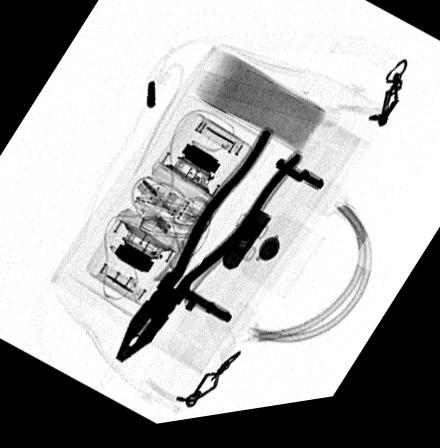Pliers: (111, 135, 306, 367)
